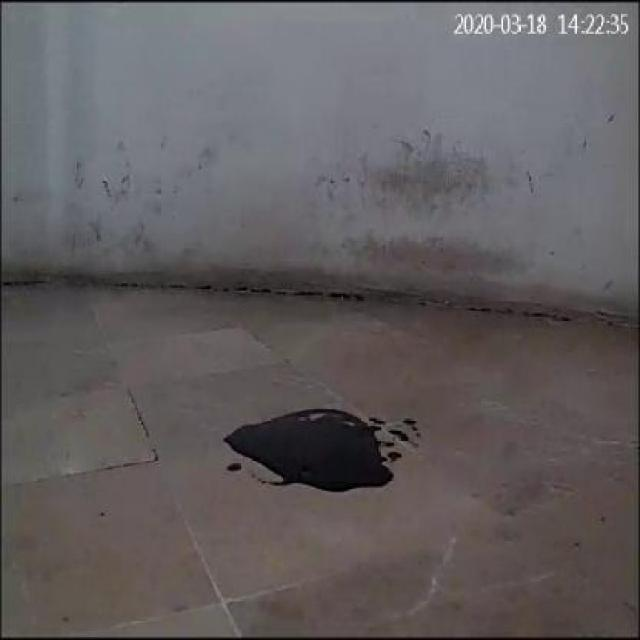spill: (222, 406, 412, 488)
